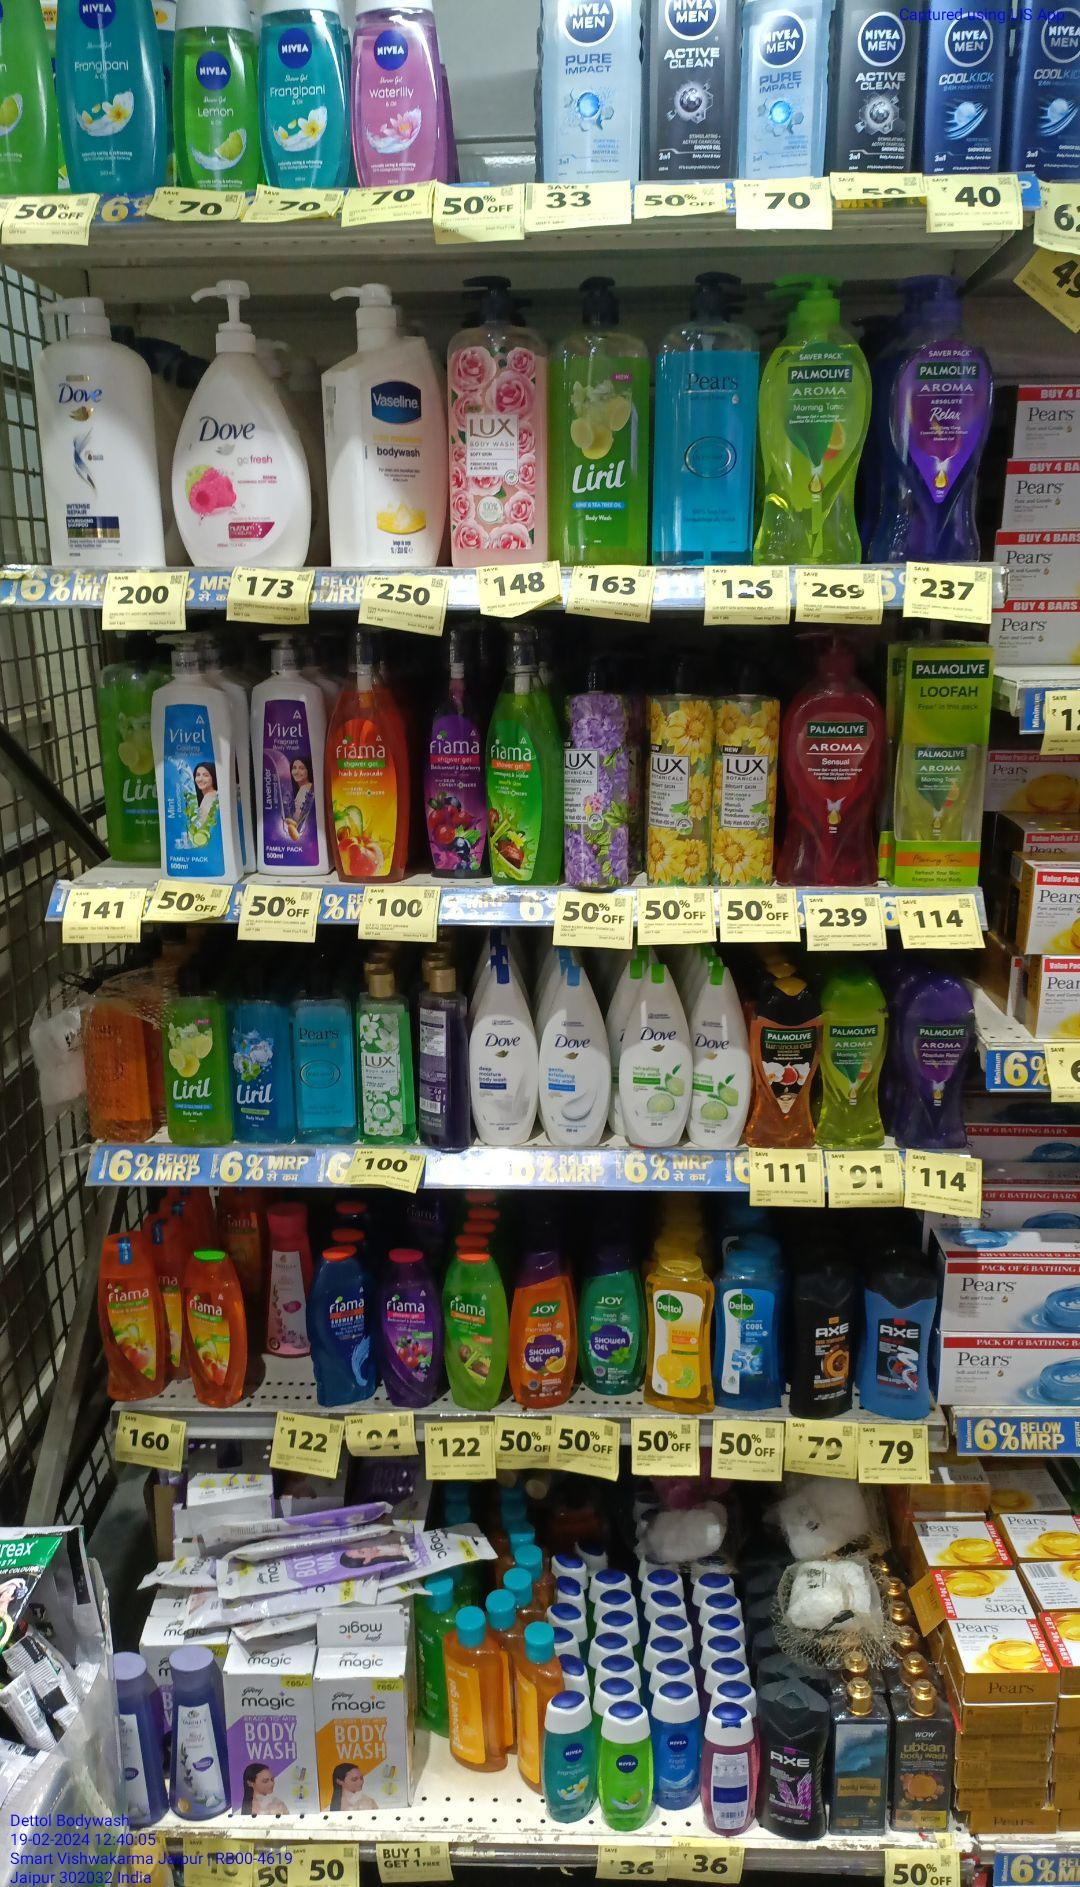Dettol_Bodywash_Cool: (717, 1252, 778, 1413)
Dettol_Bodywash_Refresh: (652, 1252, 713, 1407)
Dove_Deep_Moisture_Body_Wash_250ML: (473, 967, 534, 1142)
Dove_Gentle_Exfoliating_Body_Wash_250ML: (539, 975, 605, 1147)
Dove_Refreshing_Body_Wash_250ML: (613, 967, 691, 1146), (694, 972, 749, 1147)
Fiama_Shower_Gel_Lemongrass_and_Jojoba_250ML: (441, 1255, 506, 1407), (600, 1709, 652, 1829)
Fiama_Shower_Gel_Peach_and_Avocado_250ML: (175, 1251, 246, 1406)
Joy_Shower_Gel_Mandarin_and_Lemongrass_250ML: (508, 1255, 578, 1407)
Joy_Shower_Gel_Mint_and_Eucalyptus_250ML: (581, 1255, 647, 1398)
Liril_Cooling_Mint_Body_Wash_250ML: (233, 978, 290, 1142)
Liril_Lime_and_Tea_Tree_Oil_Body_Wash_250ML: (171, 972, 227, 1147)
Lux_Body_Wash_Skin_Detox_Freesia_Scent_and_Alove_Vera_245ML: (360, 967, 415, 1140)
Nivea_Shower_Gel_Frangipani_and_Oil_250ML: (258, 0, 341, 189), (545, 1694, 596, 1822)
Nivea_Shower_Gel_Lemon_and_Oil_250ML: (167, 0, 254, 194)
Nivea_Shower_Gel_Waterlily_and_Oil_250ML: (347, 0, 446, 185)
Palmolive_Aroma_Morning_Tonic_Shower_Gel_250ML: (818, 981, 893, 1148)
Palmolive_Aroma_Relax_250ML: (893, 975, 972, 1156)
Palmolive_Luminous_Oils_With_White_Orchid_Shower_Gel_250ML: (751, 982, 817, 1140)
Pears_Pure_Glycerin_and_Mint_Extracts_Body_Wash_250ML: (293, 972, 351, 1142)
